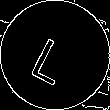L_NE: (30, 26, 80, 84)
